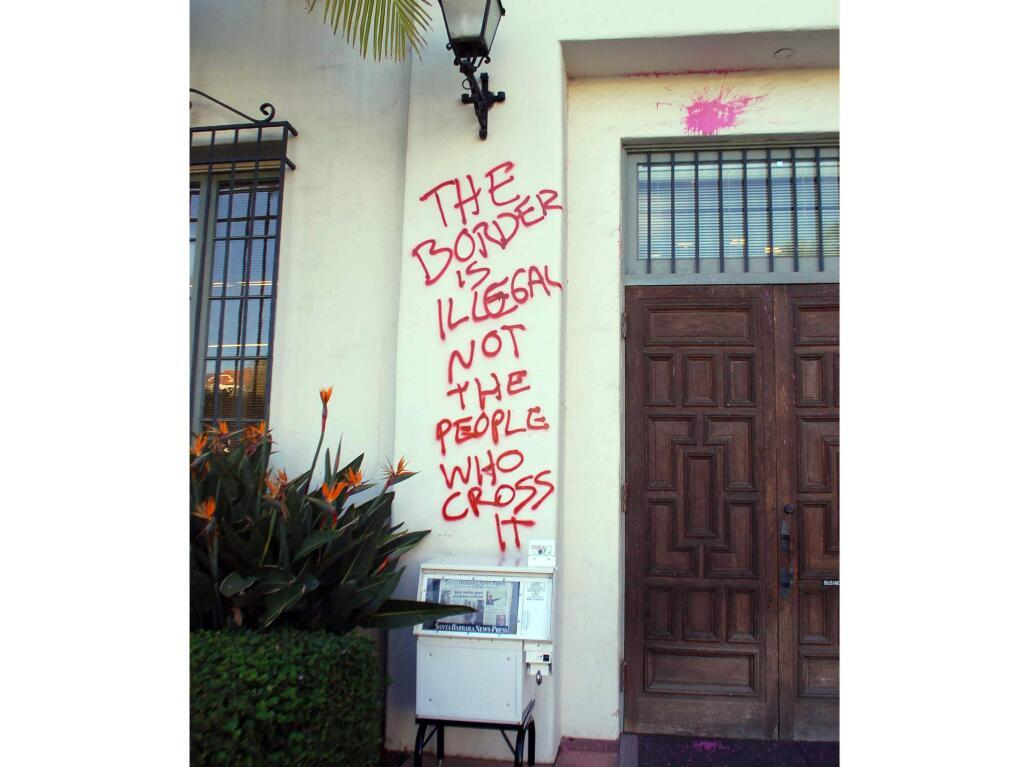graffiti: (417, 153, 554, 556)
